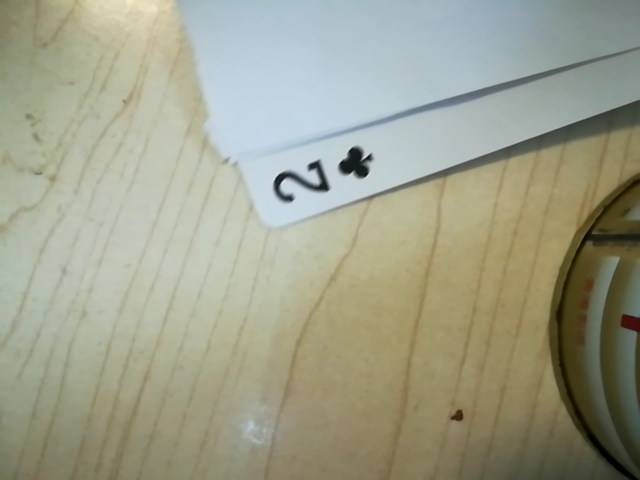mh 2: (261, 137, 387, 216)
